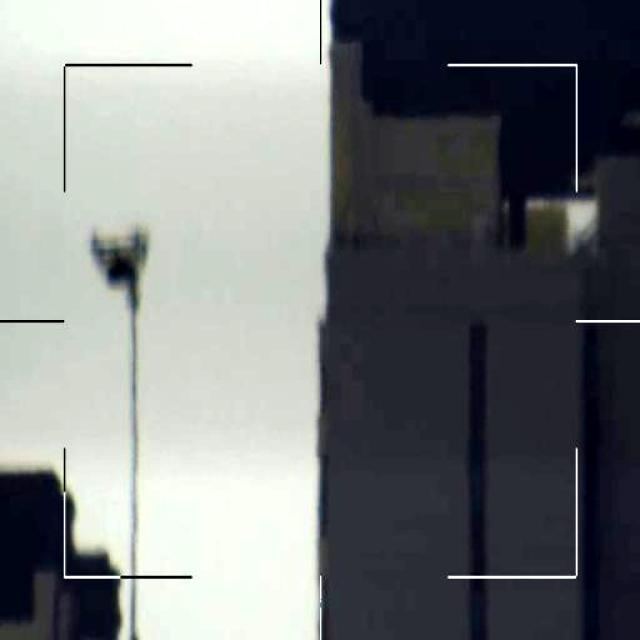bird: (86, 221, 149, 306)
